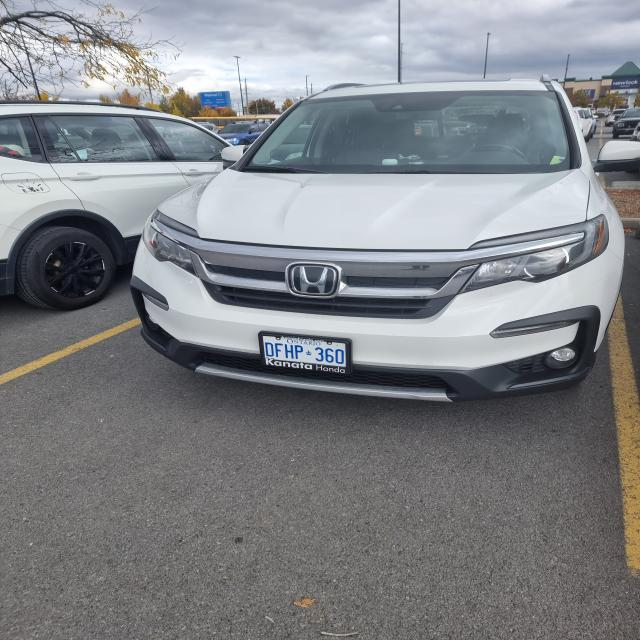plaque: (259, 332, 351, 373)
